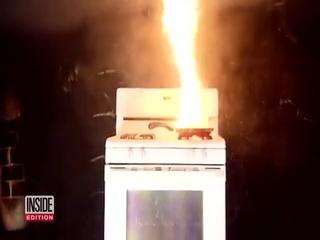Fire: (162, 0, 209, 132)
